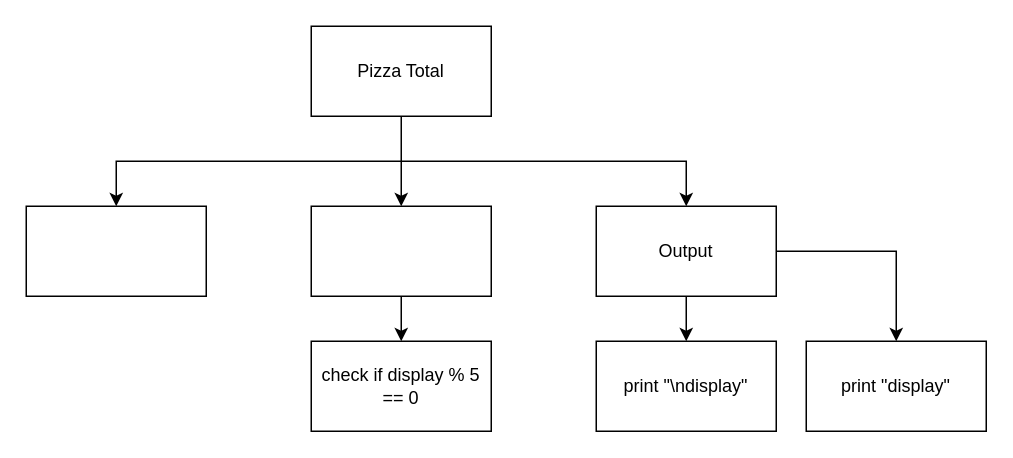
The diagram is 1013 pixels wide and 458 high, and some of its shapes have lost their labels. The centre of each missing label's shape, as x and y in pixels:
Input: the point at 115,250
Process: the point at 400,250
